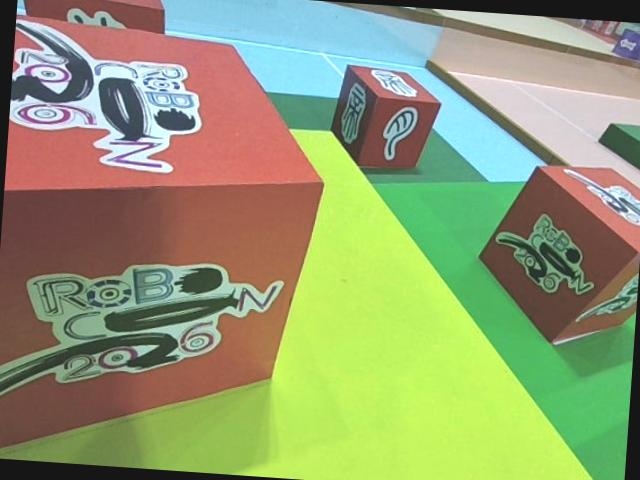R1: (0, 9, 331, 475), (467, 155, 640, 349)
R2 Fake: (326, 60, 443, 173), (13, 0, 167, 77)
